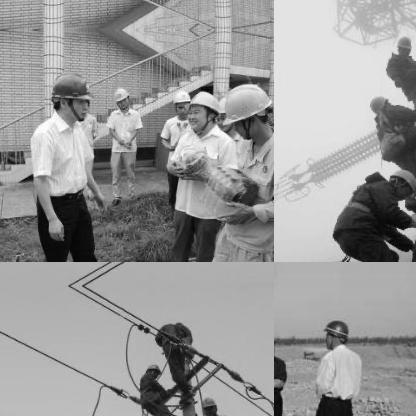Helmet: (220, 78, 273, 136), (44, 66, 96, 124), (184, 88, 221, 130), (383, 164, 415, 199), (324, 316, 350, 349), (168, 86, 192, 118), (369, 94, 393, 115), (111, 86, 131, 108), (392, 30, 410, 54), (201, 392, 218, 415), (144, 360, 162, 378)
